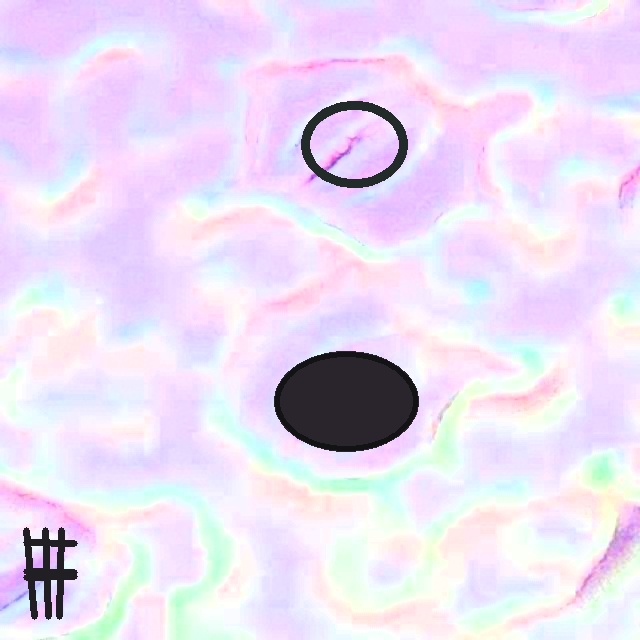open: (274, 352, 418, 451), (300, 100, 408, 187), (24, 528, 77, 619)
